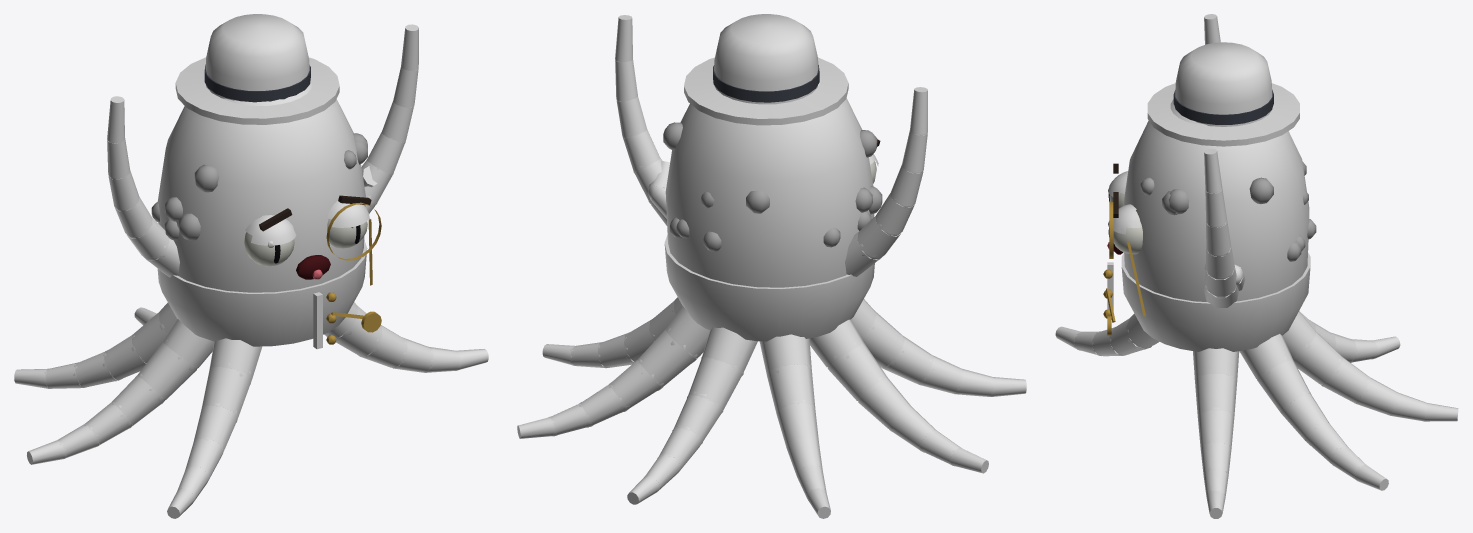
Rendered from alien_octo.fbx.
3 renders of one model, left to right at view 1: azimuth 30°, elevation 25°; view 2: azimuth 150°, elevation 25°; view 3: azimuth 270°, elevation 25°, orthographic. The views are drawn at different scales.
Parts seen in each view (by area): view 1: alien_octo, alien_octo__gesture; view 2: alien_octo, alien_octo__gesture; view 3: alien_octo, alien_octo__gesture.
Part boxes in pixels (x1=…): alien_octo: x1=14, y1=14, x2=488, y2=518; alien_octo__gesture: x1=107, y1=24, x2=418, y2=277; alien_octo: x1=517, y1=14, x2=1026, y2=518; alien_octo__gesture: x1=615, y1=15, x2=927, y2=276; alien_octo: x1=1055, y1=42, x2=1458, y2=518; alien_octo__gesture: x1=1203, y1=14, x2=1238, y2=307.
Size of the model in its own units: 0.4405 by 0.3667 by 0.3663.
